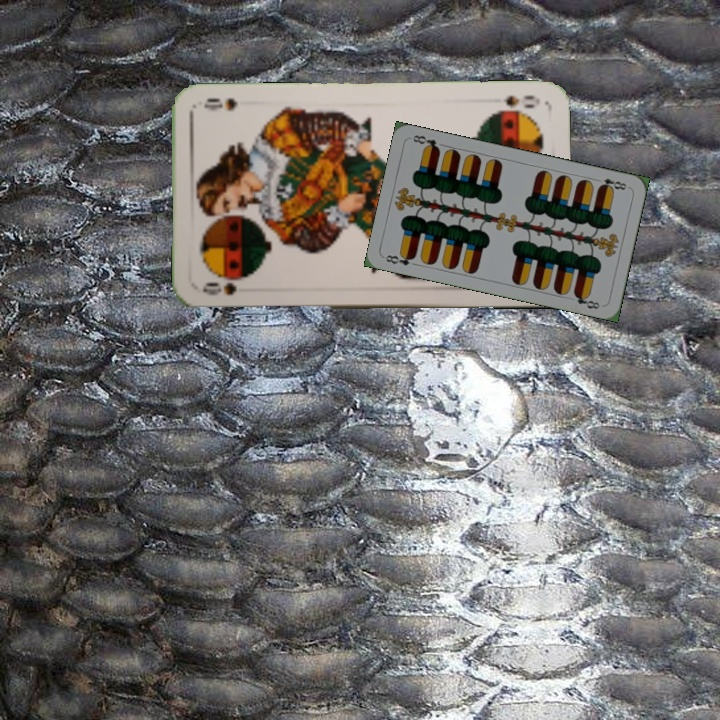E8: (381, 249, 418, 268), (595, 174, 631, 193)
SO: (494, 91, 543, 114), (198, 276, 248, 298)
